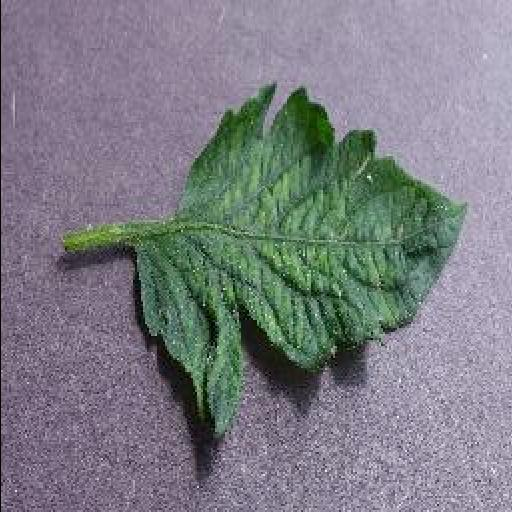Mosaic Virus: (130, 83, 468, 441)
